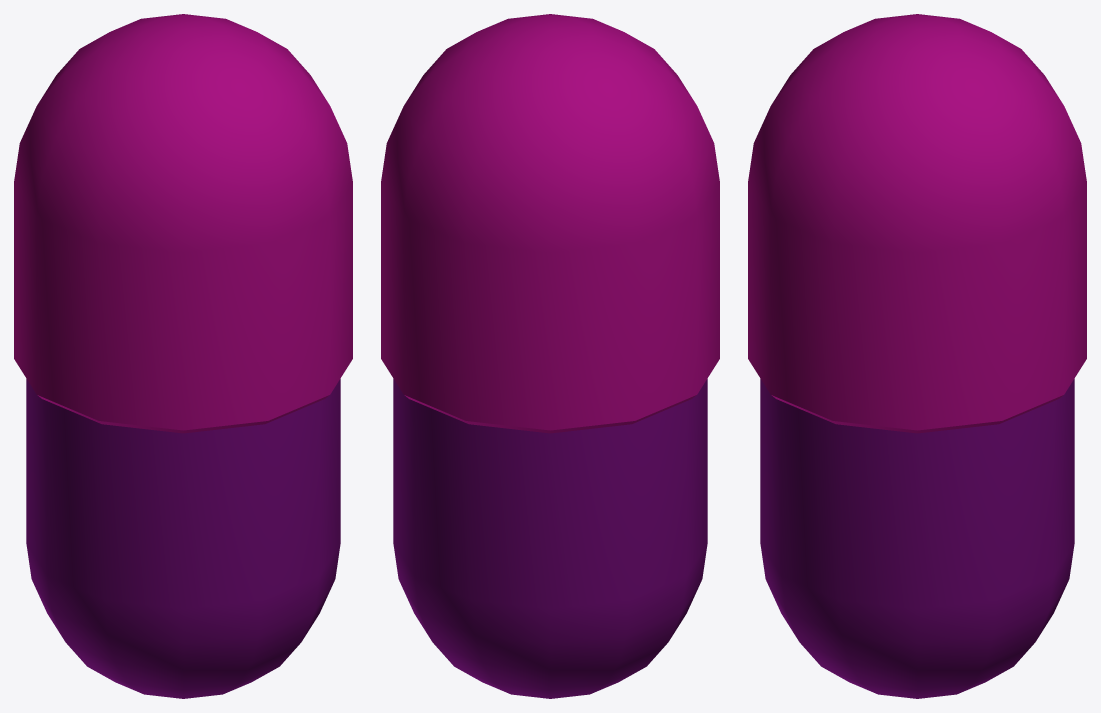
Rendered from pill_pink.FBX.
The picture shows the model from 3 angles, left to right: view 1: azimuth 30°, elevation 25°; view 2: azimuth 150°, elevation 25°; view 3: azimuth 270°, elevation 25°; orthographic projection.
Parts seen in each view (by area): view 1: pink; view 2: pink; view 3: pink.
Boxes of the visible parts, bbox=[...] form: pink: bbox=[14, 14, 352, 698]; pink: bbox=[381, 14, 719, 698]; pink: bbox=[748, 14, 1086, 698].
Size of the model in its own units: 55.21 by 118 by 55.21.
